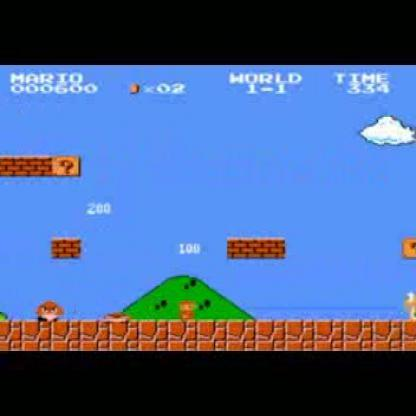Goomba: (35, 299, 66, 323)
Tortuga: (400, 289, 414, 322)
